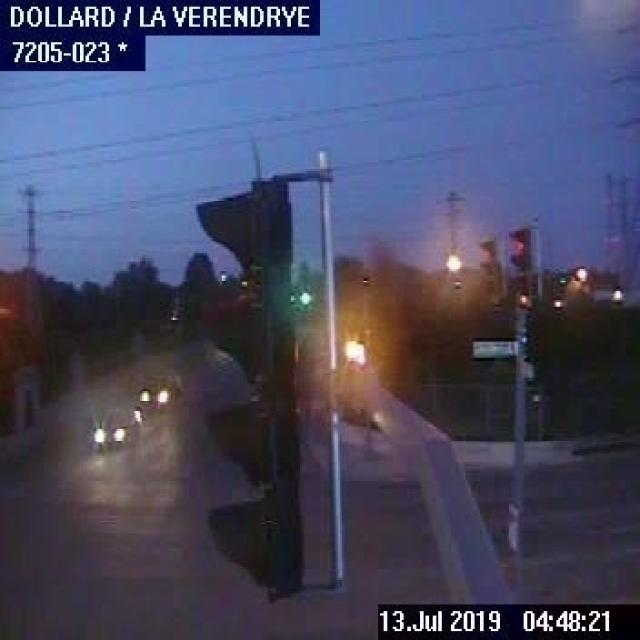vehicle: (135, 369, 178, 413), (89, 406, 133, 446)
